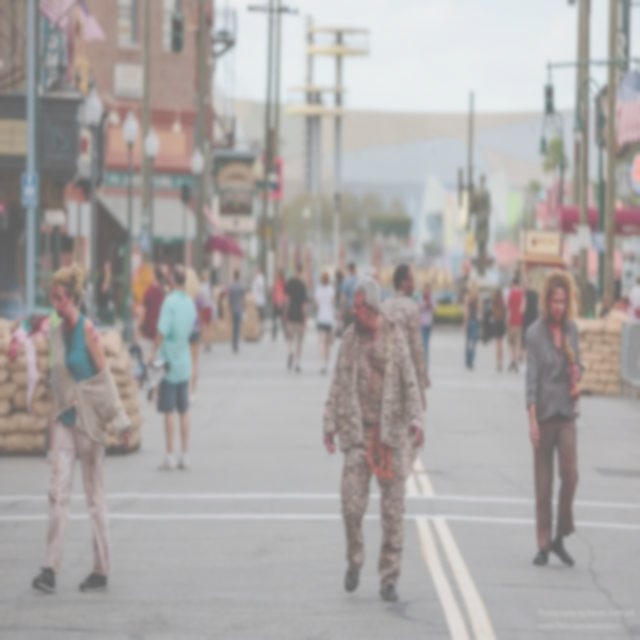pessoa: (28, 256, 135, 600), (321, 274, 426, 606), (520, 264, 587, 570), (146, 260, 200, 475), (380, 261, 432, 483), (43, 277, 81, 467), (132, 258, 170, 407), (3, 303, 52, 380), (282, 261, 309, 373), (312, 270, 338, 376), (84, 256, 121, 330), (468, 171, 493, 278), (182, 265, 202, 398), (226, 266, 252, 355), (598, 272, 640, 327), (462, 278, 484, 369), (416, 280, 438, 368), (506, 274, 524, 374), (270, 264, 292, 342), (489, 285, 508, 374), (338, 260, 360, 336), (198, 264, 216, 352), (250, 262, 268, 322), (526, 276, 540, 346), (333, 264, 345, 340), (368, 262, 383, 298), (570, 268, 580, 316)
